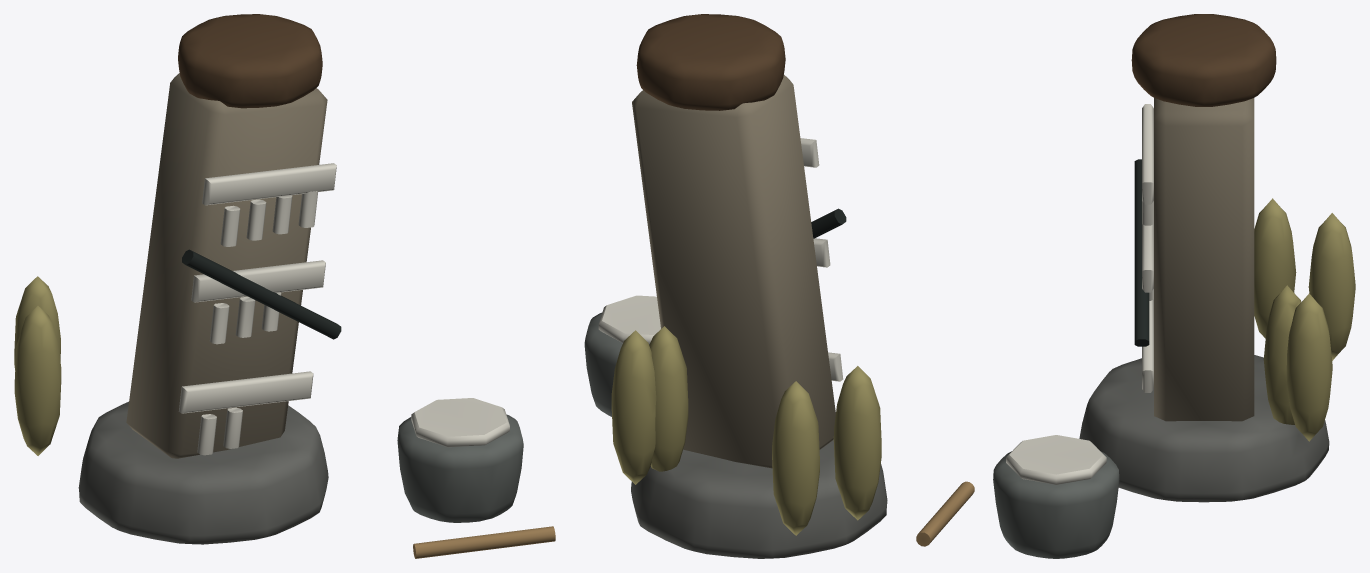
The model's file is milepost_b.glb.
The picture shows the model from 3 angles, left to right: view 1: azimuth 30°, elevation 25°; view 2: azimuth 150°, elevation 25°; view 3: azimuth 270°, elevation 25°; orthographic projection. The views are drawn at different scales.
Parts seen in each view (by area): view 1: Surface; view 2: Surface; view 3: Surface.
Boxes of the visible parts, x1,y1,x2,y2 form: Surface: [14, 14, 555, 558]; Surface: [584, 14, 887, 558]; Surface: [916, 14, 1355, 558].
Size of the model in its own units: 1.5 by 1.65 by 1.49.
